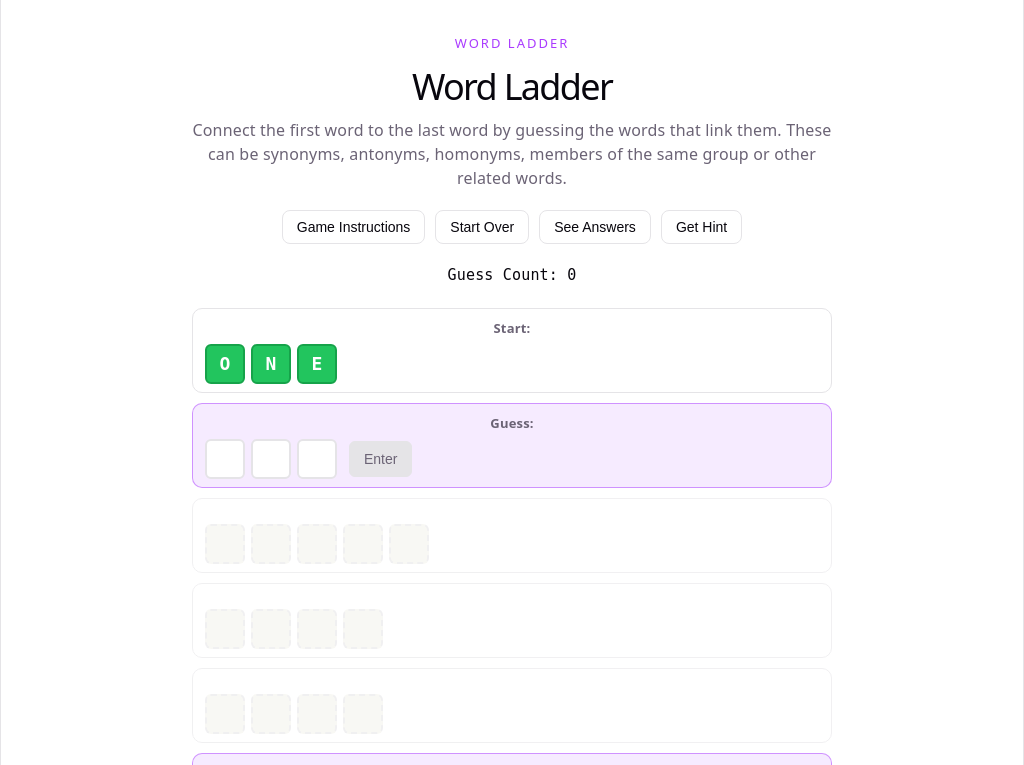
Test: App (Word Ladder game) › reveals a locked letter and increments the guess count when a hint is requested
Click the button "Get Hint".
click(702, 227)  # box 661,210 -> 742,244
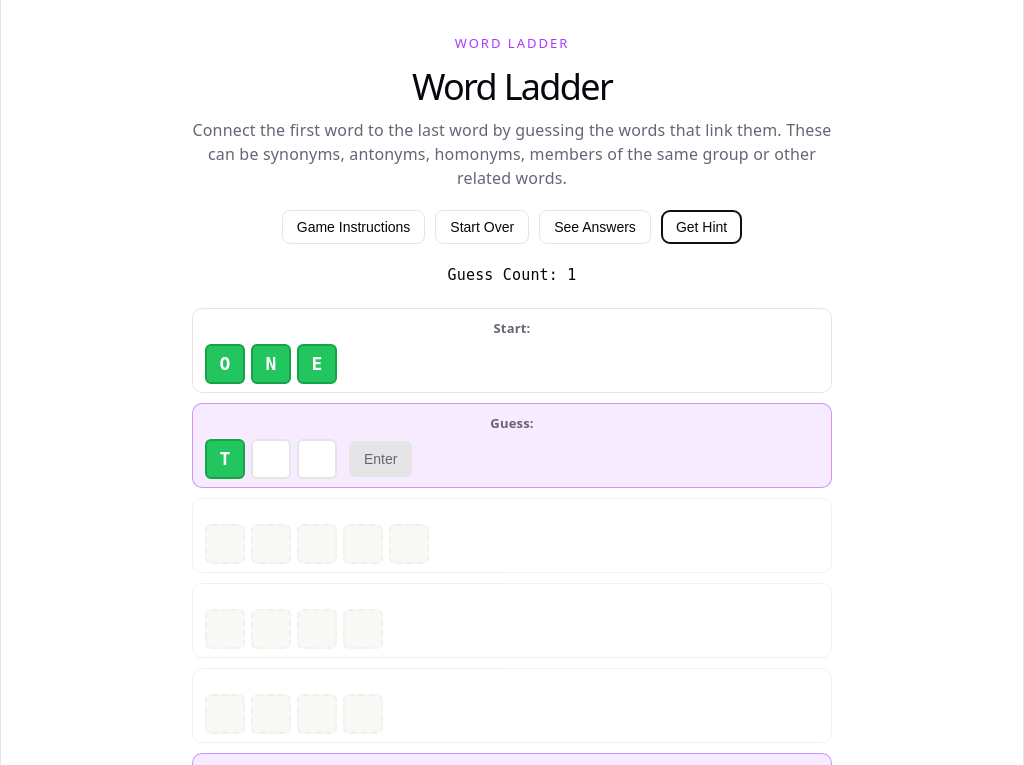
Expected: the text with class "word-ladder__count" shows "1", 567,266 -> 576,284
